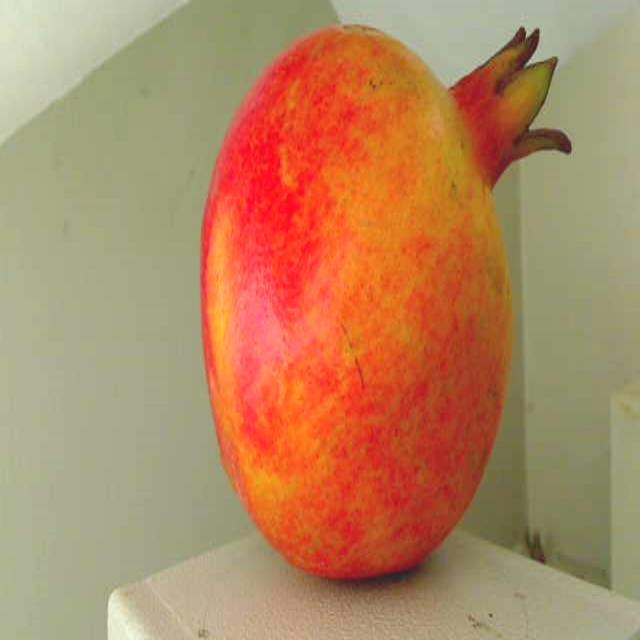pomegranate: (194, 0, 581, 585)
